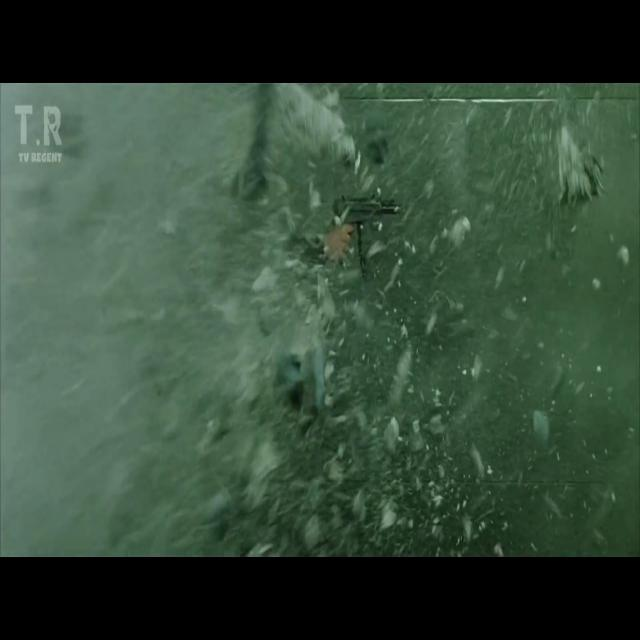long weapon: (324, 168, 415, 301)
